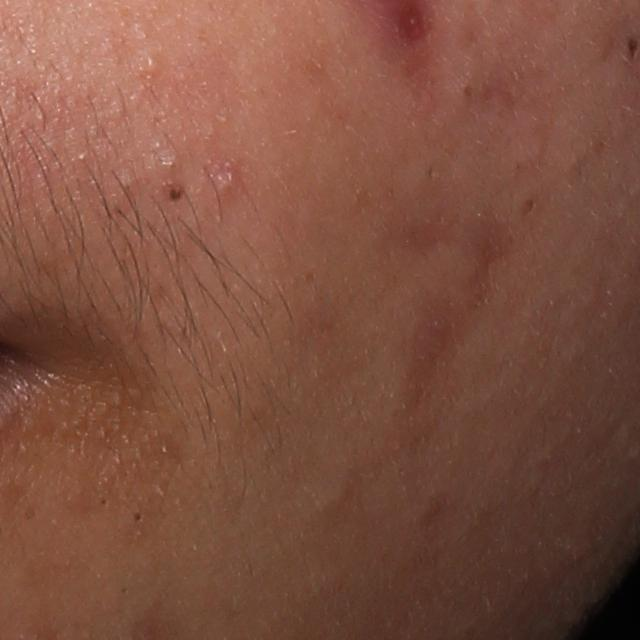comedo: (321, 480, 355, 510), (211, 165, 238, 193), (156, 153, 187, 173), (141, 49, 165, 74), (127, 508, 149, 525)
